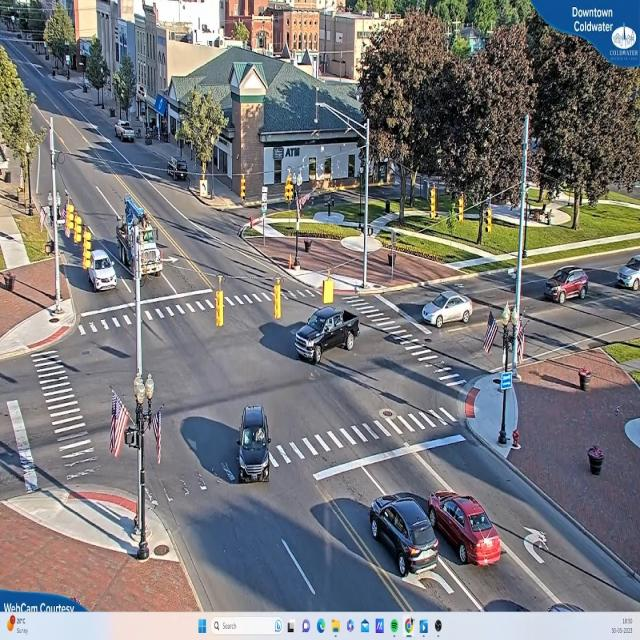car: (368, 494, 442, 579), (426, 491, 506, 568), (293, 304, 360, 364), (238, 403, 272, 483), (422, 292, 472, 328), (549, 269, 591, 303), (88, 248, 117, 296), (615, 258, 639, 290), (117, 122, 137, 145)
truck: (116, 196, 166, 282)
